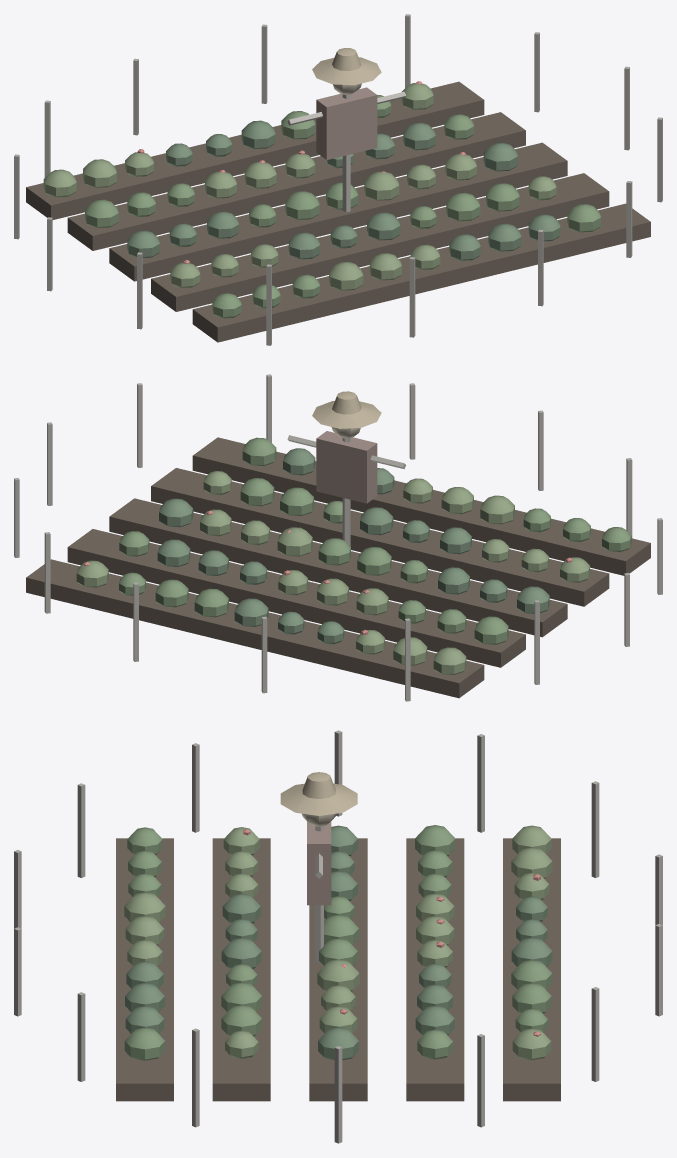
The model's file is garden_1.gltf.
The picture shows the model from 3 angles, top to bottom: view 1: azimuth 30°, elevation 25°; view 2: azimuth 150°, elevation 25°; view 3: azimuth 270°, elevation 25°; orthographic projection. The views are drawn at different scales.
Parts seen in each view (by area): view 1: Body; view 2: Body; view 3: Body.
Part boxes in pixels (x1,y1,x2,y2): Body: (14,14,662,345); Body: (14,374,662,701); Body: (14,730,662,1143).
Bounding box in the file's own units: 8.08 × 2.33 × 6.71.
